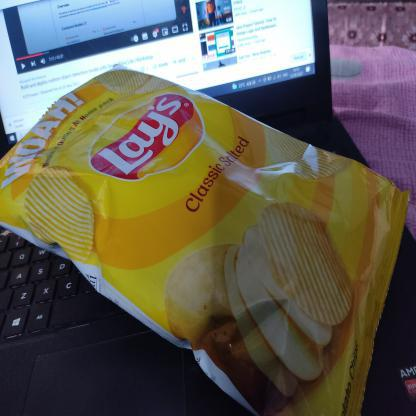classicsalted: (0, 61, 412, 415)
